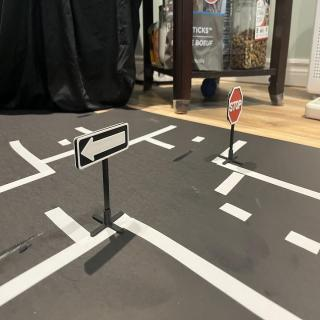sign_oneway_left: (77, 124, 129, 171)
sign_stop: (229, 87, 245, 127)
